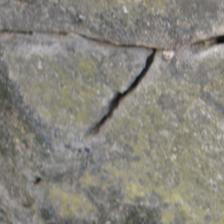Crack: (28, 197, 118, 224), (44, 95, 115, 127)
